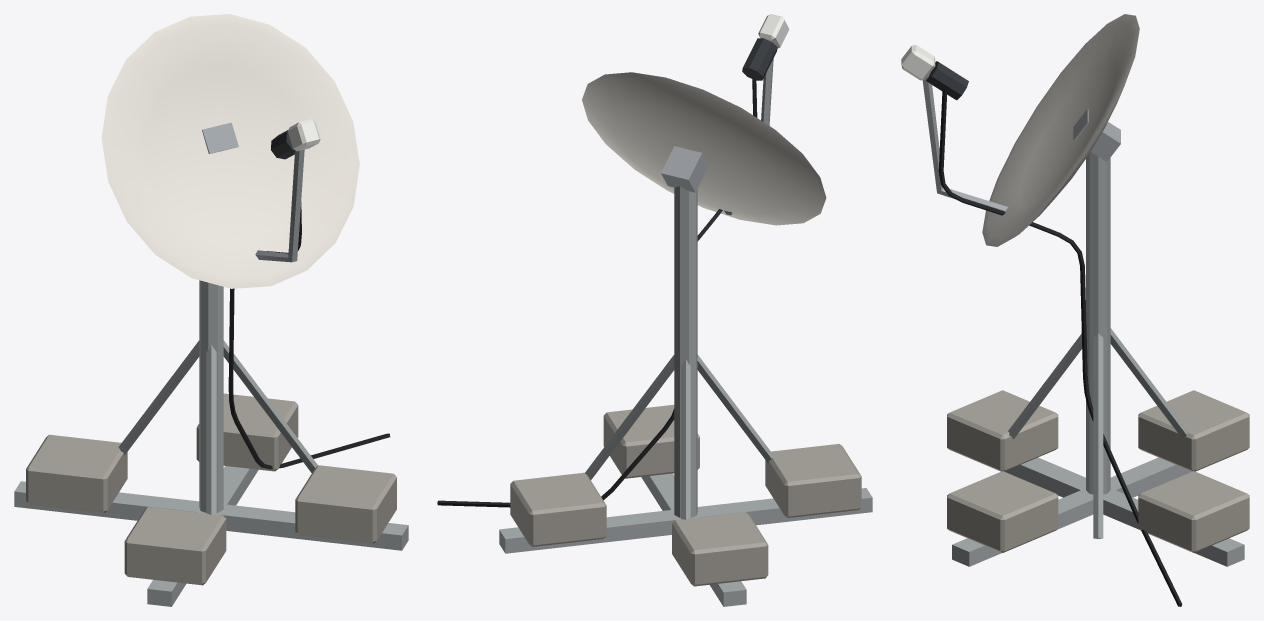
File: SC_Util_Satellite_Dish.gltf
3 renders of one model, left to right at view 1: azimuth 30°, elevation 25°; view 2: azimuth 150°, elevation 25°; view 3: azimuth 270°, elevation 25°, orthographic. The views are drawn at different scales.
Visible parts, largest first — view 1: SC_Util_Satellite_Dish; view 2: SC_Util_Satellite_Dish; view 3: SC_Util_Satellite_Dish.
Part boxes in pixels (bbox=[...]): SC_Util_Satellite_Dish: bbox=[14, 14, 408, 606]; SC_Util_Satellite_Dish: bbox=[437, 14, 872, 606]; SC_Util_Satellite_Dish: bbox=[901, 14, 1249, 606].
Bounding box in the file's own units: 0.9703 × 1.28 × 0.8495.
1 material, 1 textured.
